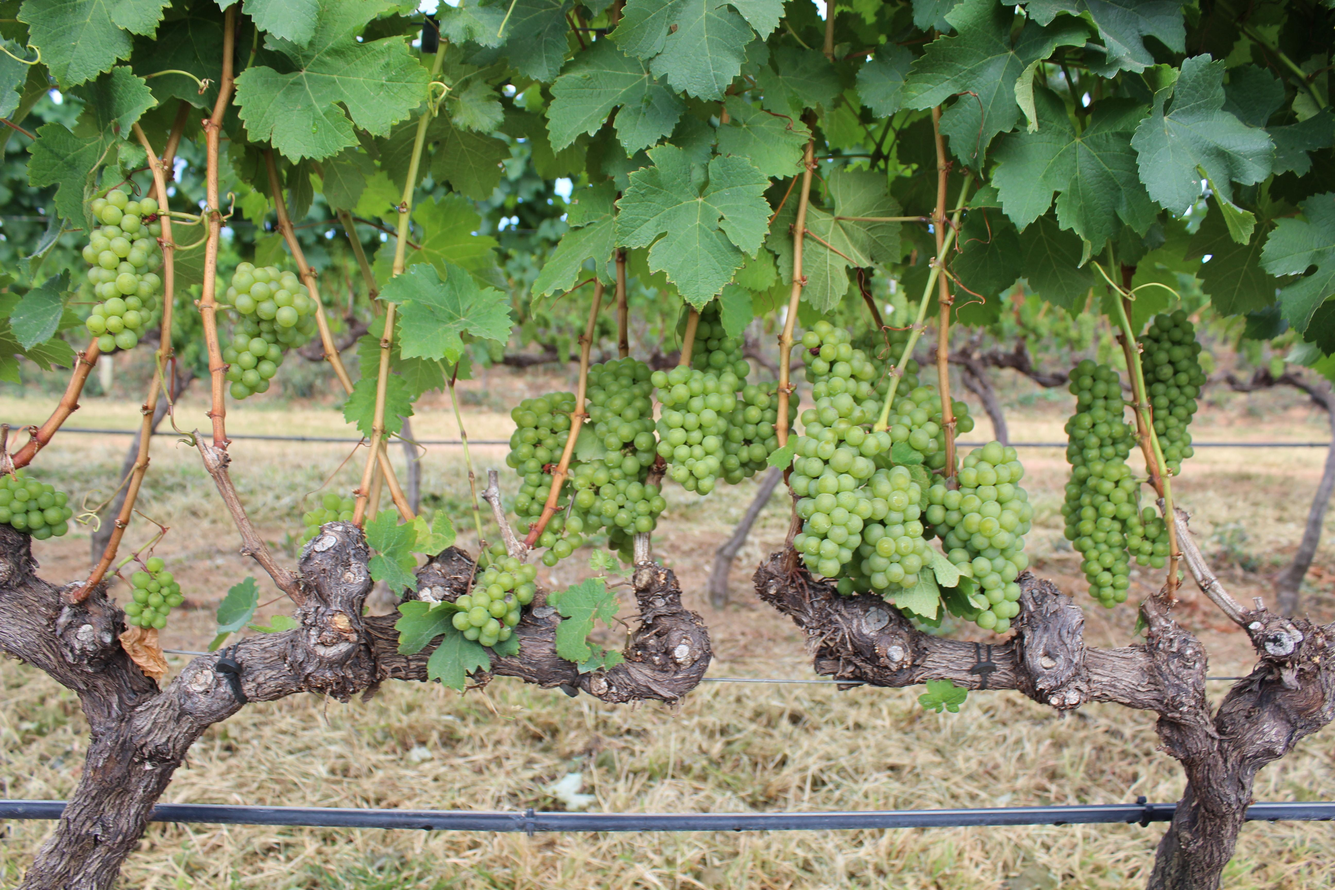leaf: (236, 0, 428, 159), (902, 0, 1085, 166), (992, 89, 1156, 251), (616, 145, 769, 307), (1132, 56, 1274, 215), (547, 40, 684, 153), (802, 168, 901, 312), (18, 0, 170, 88), (381, 262, 511, 363), (1026, 0, 1185, 74), (1262, 192, 1335, 333), (1187, 208, 1279, 315), (28, 122, 113, 224), (716, 96, 810, 177), (1020, 214, 1095, 314), (71, 65, 156, 138), (756, 46, 841, 119), (548, 577, 619, 663), (8, 271, 69, 351), (365, 510, 417, 593), (857, 42, 913, 117), (427, 625, 490, 691), (209, 577, 258, 651), (242, 0, 320, 46), (394, 601, 455, 654), (322, 149, 375, 210), (766, 200, 795, 284), (893, 568, 940, 619), (343, 372, 377, 435), (413, 510, 456, 556), (719, 284, 754, 338), (383, 375, 413, 434), (919, 679, 968, 713), (369, 3, 380, 5), (376, 9, 380, 12), (382, 514, 383, 514), (364, 379, 365, 379)
